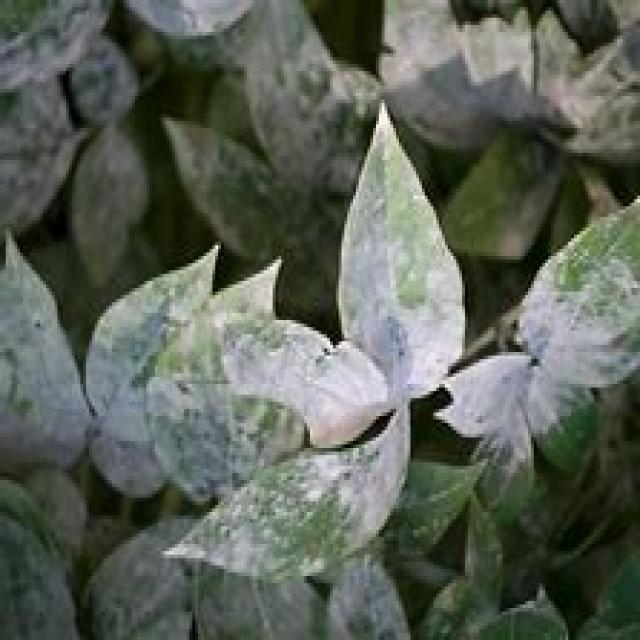Leaf_Mold: (0, 96, 471, 585), (409, 260, 640, 584)
